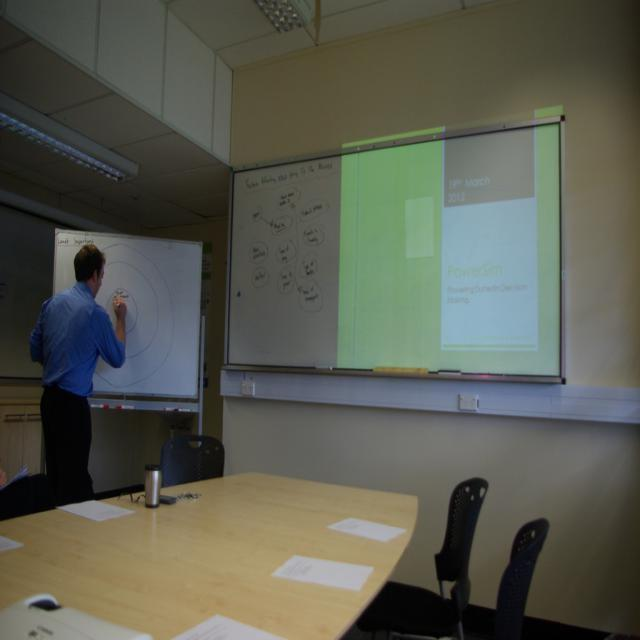Meja: (0, 470, 419, 639)
Whiteboard: (220, 114, 565, 380), (49, 227, 205, 400)
